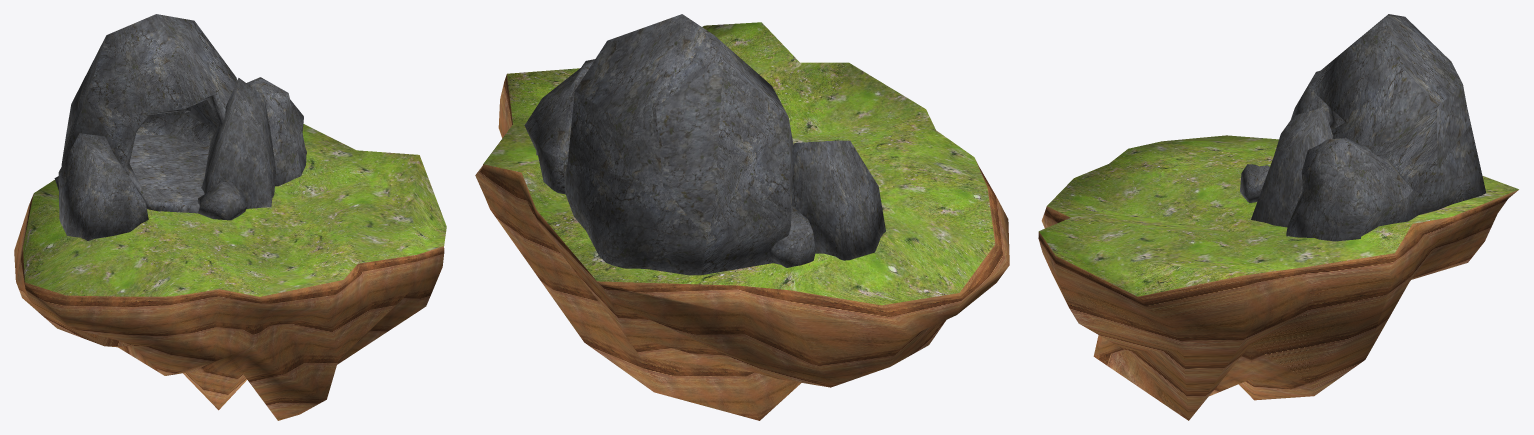
File: island01WithCave.fbx
3 views of the same model, side by side, from view 1: azimuth 30°, elevation 25°; view 2: azimuth 150°, elevation 25°; view 3: azimuth 270°, elevation 25° (orthographic). The views are drawn at different scales.
Parts seen in each view (by area): view 1: 01- island01; view 2: 01- island01; view 3: 01- island01.
Boxes of the visible parts, left/top/right/bottom form: 01- island01: left=14, top=14, right=446, bottom=420; 01- island01: left=475, top=14, right=1009, bottom=420; 01- island01: left=1038, top=14, right=1518, bottom=420.
Bounding box in the file's own units: 13487 × 12050 × 13796.
